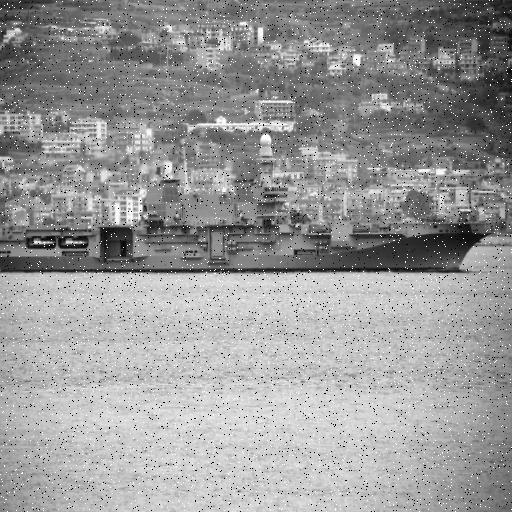Portanaves: (1, 128, 499, 276)
